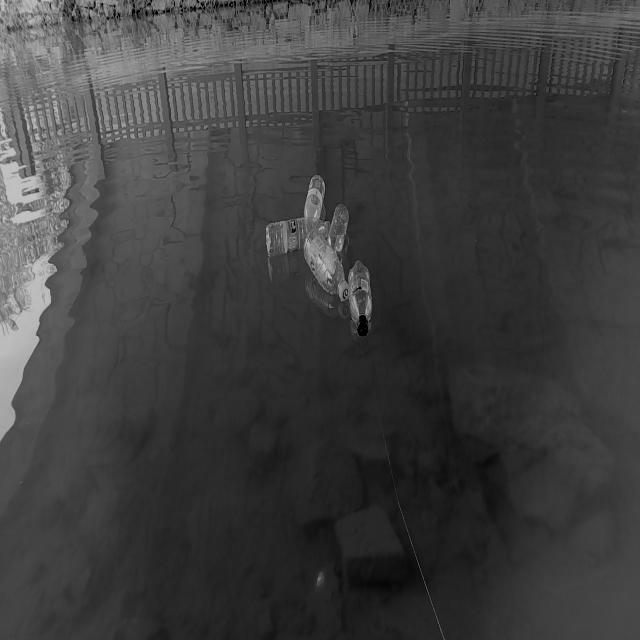bottle: (294, 223, 356, 309), (252, 211, 334, 265), (289, 170, 336, 230), (344, 261, 377, 340), (324, 205, 360, 249)
